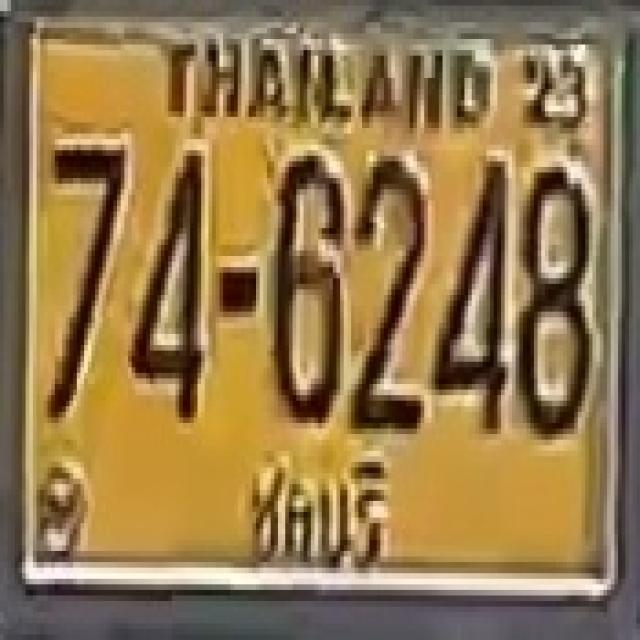2: (348, 156, 424, 428)
4: (428, 153, 505, 426), (128, 145, 201, 417)
6: (269, 150, 342, 418)
7: (44, 139, 124, 418)
8: (514, 161, 587, 434)
CBI: (234, 451, 401, 588)
